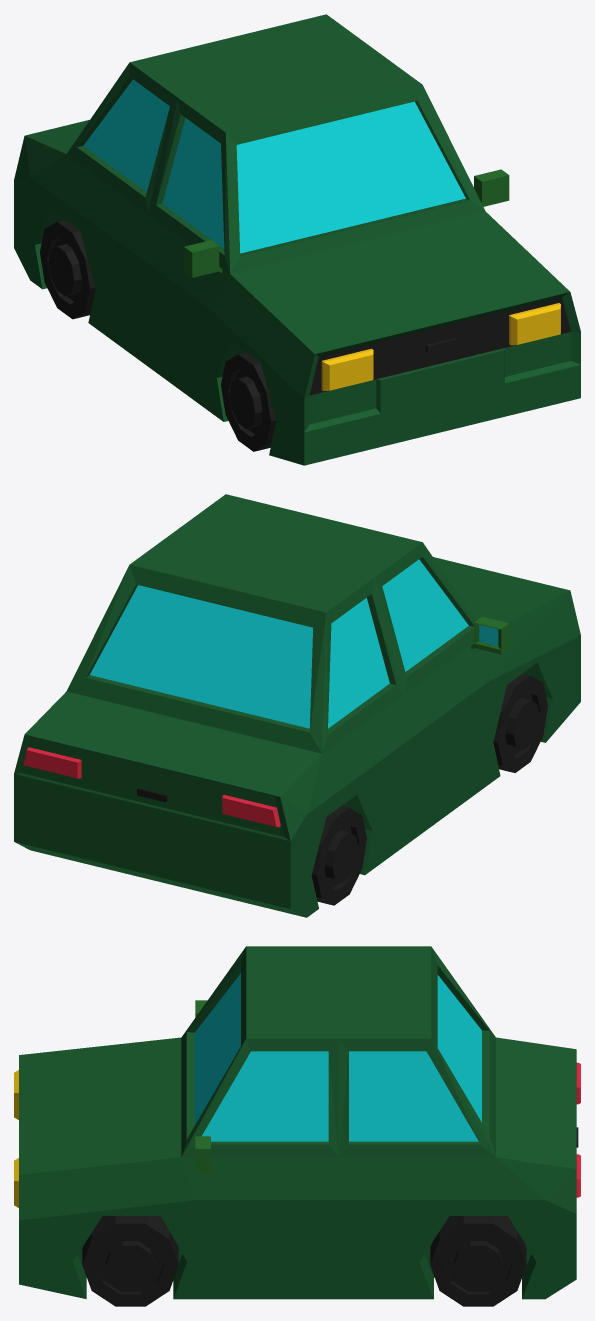
The model's file is sedan.obj.
The picture shows the model from 3 angles, top to bottom: view 1: azimuth 30°, elevation 25°; view 2: azimuth 150°, elevation 25°; view 3: azimuth 270°, elevation 25°; orthographic projection. The views are drawn at different scales.
Visible parts, largest first — view 1: sedan_Cube.004; view 2: sedan_Cube.004; view 3: sedan_Cube.004.
Part boxes in pixels (x1,y1,x2,y2): sedan_Cube.004: [14, 14, 580, 465]; sedan_Cube.004: [14, 494, 580, 917]; sedan_Cube.004: [14, 946, 580, 1306].
Bounding box in the file's own units: 4.42 × 3.46 × 7.12.
